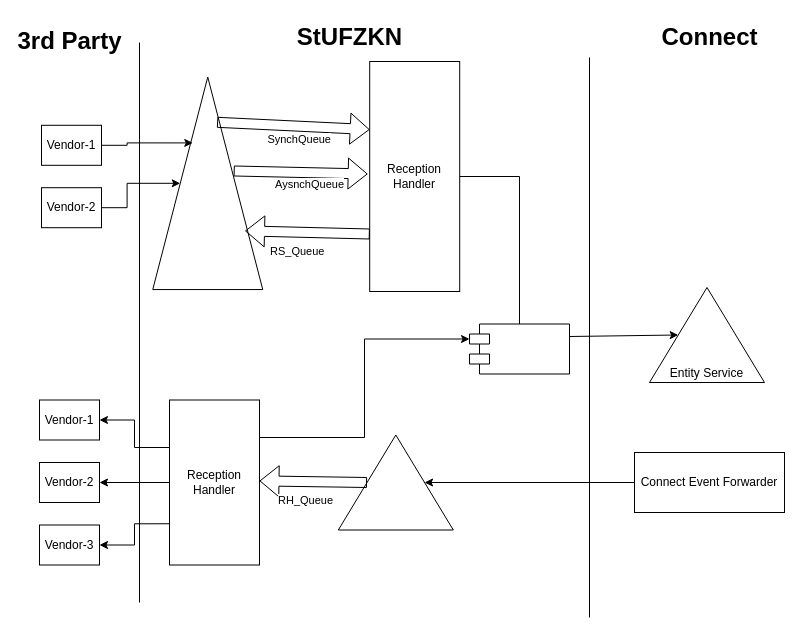
The diagram is 802 pixels wide and 636 high, and some of its shapes have lost their labels. Each missing label, with the box of its shape:
Connect BL: (468, 323, 570, 374)
Reception Service: (152, 76, 263, 290)
SendNotification Service: (337, 434, 453, 530)
